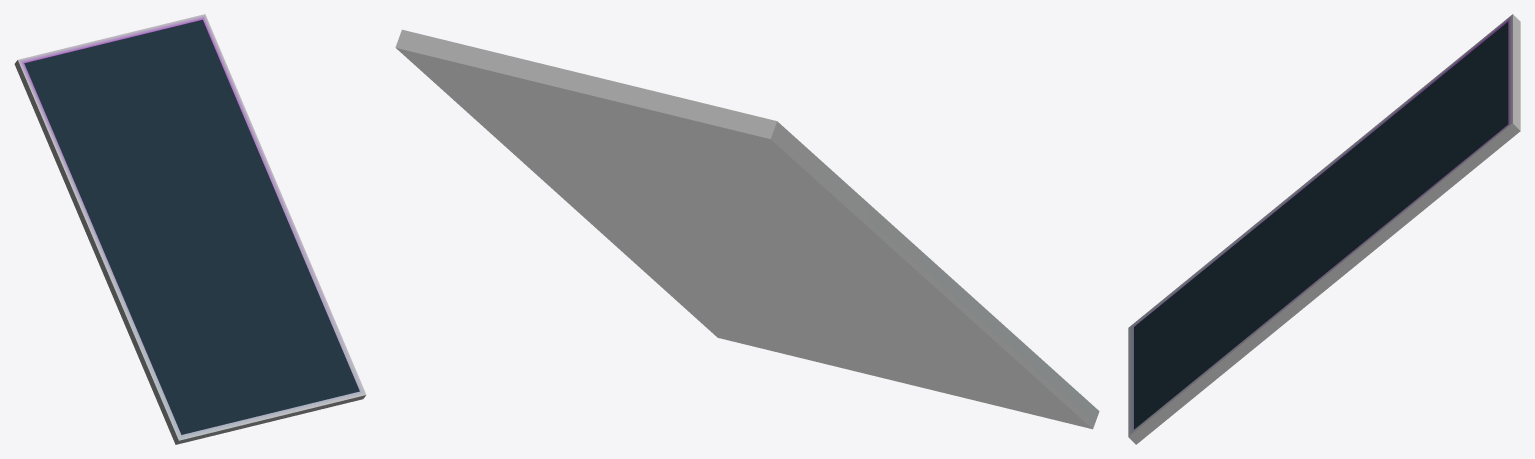
3 views of the same model, side by side, from view 1: azimuth 30°, elevation 25°; view 2: azimuth 150°, elevation 25°; view 3: azimuth 270°, elevation 25° (orthographic). The views are drawn at different scales.
Parts seen in each view (by area): view 1: face, slab; view 2: slab; view 3: face, slab.
Part boxes in pixels (x1,y1,x2,y2): face: [24, 20, 359, 434]; slab: [14, 14, 366, 444]; slab: [395, 29, 1099, 429]; face: [1133, 22, 1508, 429]; slab: [1128, 14, 1520, 444].
Size of the model in its own units: 1.32 by 1.81 by 2.
